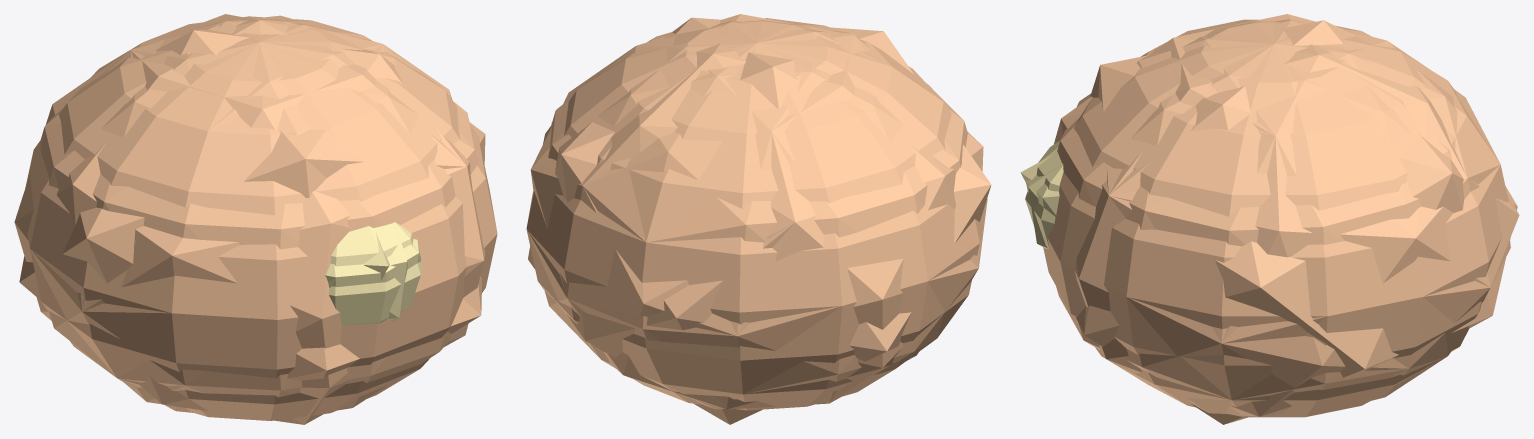
Rendered from SM_Swarm.fbx.
3 renders of one model, left to right at view 1: azimuth 30°, elevation 25°; view 2: azimuth 150°, elevation 25°; view 3: azimuth 270°, elevation 25°, orthographic. The views are drawn at different scales.
Parts seen in each view (by area): view 1: SM_Swarm, LOD1_SM_Swarm, LOD2_SM_Swarm, LOD3_SM_Swarm; view 2: SM_Swarm, LOD1_SM_Swarm, LOD2_SM_Swarm, LOD3_SM_Swarm; view 3: SM_Swarm, LOD1_SM_Swarm, LOD2_SM_Swarm, LOD3_SM_Swarm.
Part boxes in pixels (box(x1,y1,x2,y2)): SM_Swarm: box(25, 16, 497, 420); LOD1_SM_Swarm: box(30, 15, 479, 412); LOD2_SM_Swarm: box(14, 14, 485, 424); LOD3_SM_Swarm: box(19, 29, 485, 424); SM_Swarm: box(526, 18, 987, 410); LOD1_SM_Swarm: box(527, 20, 987, 409); LOD2_SM_Swarm: box(530, 14, 983, 409); LOD3_SM_Swarm: box(528, 17, 991, 424); SM_Swarm: box(1025, 19, 1508, 417); LOD1_SM_Swarm: box(1025, 19, 1510, 413); LOD2_SM_Swarm: box(1028, 14, 1519, 416); LOD3_SM_Swarm: box(1020, 20, 1517, 424).
Bounding box in the file's own units: 0.3683 × 0.2947 × 0.3779.
